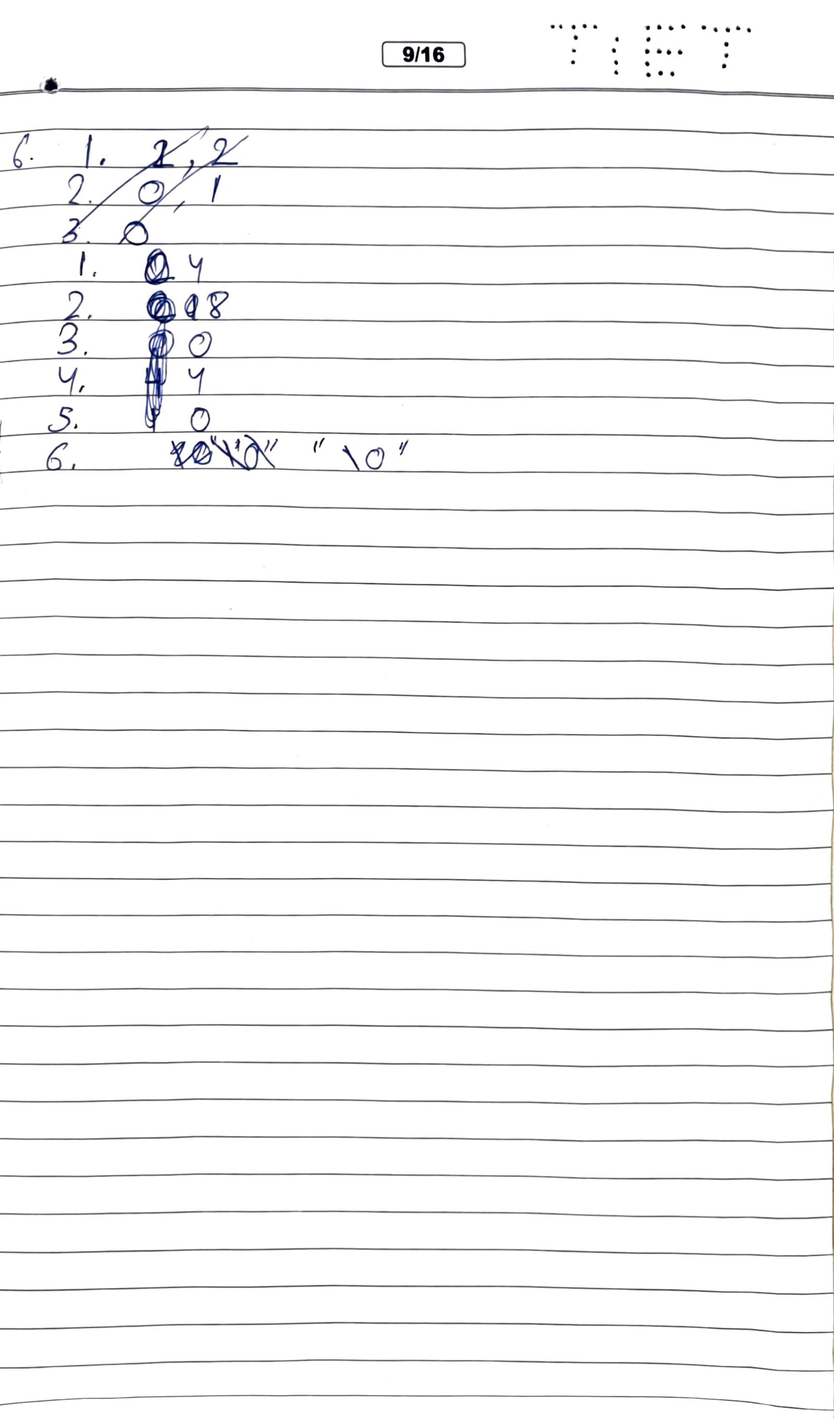cuttings: (53, 128, 252, 247), (169, 429, 280, 473), (142, 290, 177, 429), (142, 248, 174, 286), (185, 293, 201, 322)
